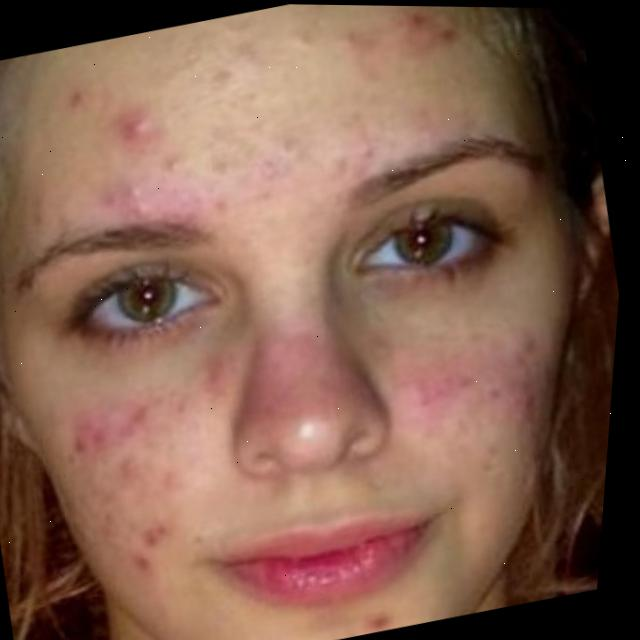Rosacea: (42, 1, 490, 249), (40, 348, 271, 598), (227, 307, 375, 441), (381, 333, 534, 446)
